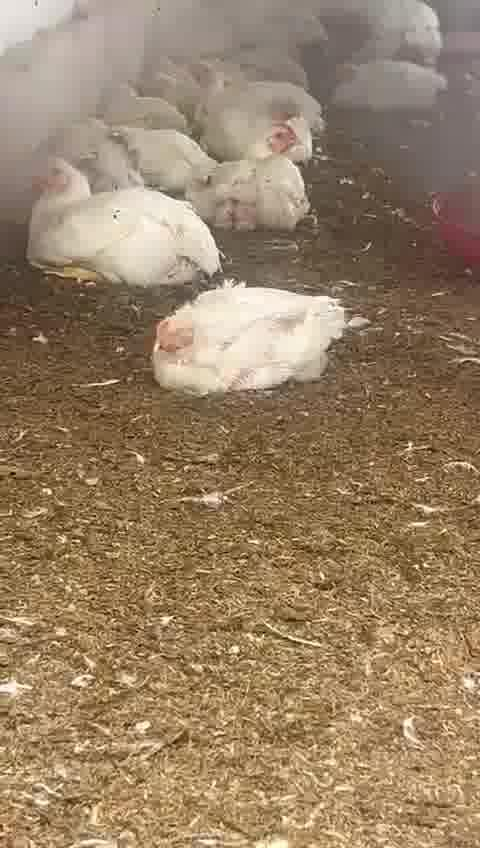AbNormal: (27, 154, 223, 284), (151, 287, 341, 386), (196, 115, 304, 226), (325, 59, 451, 116)
